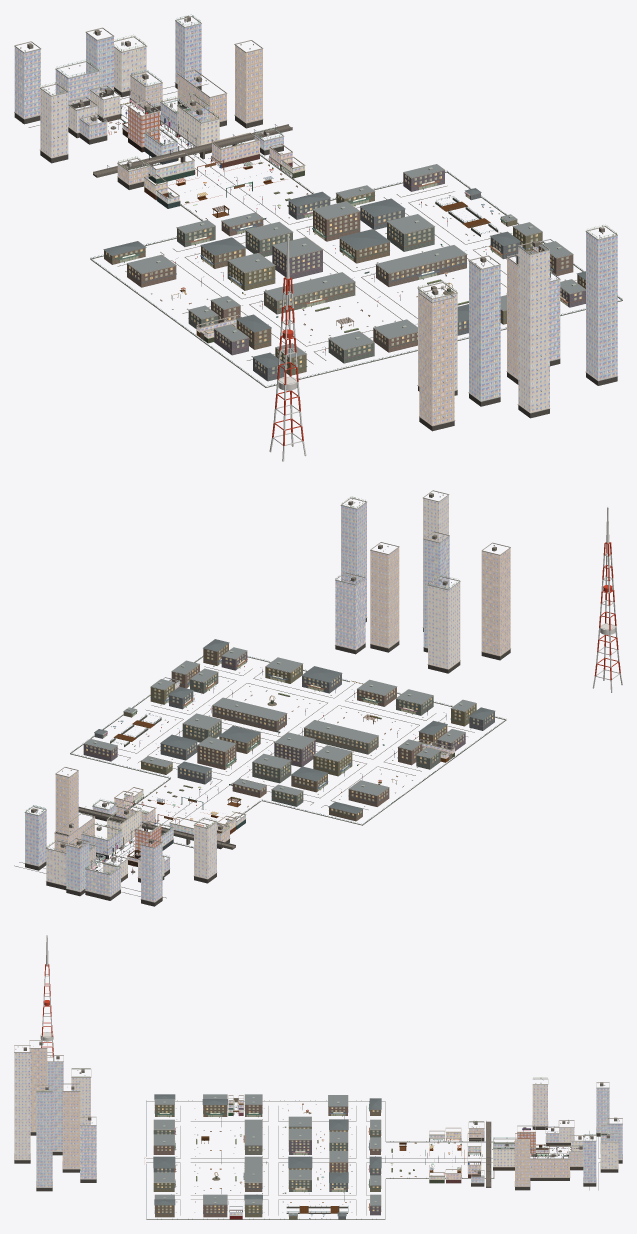
File: city-cast.opt.glb
The picture shows the model from 3 angles, top to bottom: view 1: azimuth 30°, elevation 25°; view 2: azimuth 150°, elevation 25°; view 3: azimuth 270°, elevation 25°; orthographic projection. The views are drawn at different scales.
Parts seen in each view (by area): view 1: city:facade (×19), city:concrete, neighborhood:matte (×4), city:satin (×6), neighborhood:cityWindows, city:wood; view 2: city:facade (×16), city:concrete, neighborhood:matte (×4), city:satin (×4), neighborhood:cityWindows; view 3: city:facade (×13), neighborhood:matte (×4), city:concrete, city:satin (×5), neighborhood:cityWindows, city:wood.
Boxes of the visible parts, <box> form: city:facade (×19): <box>14,21,617,425</box>; city:concrete: <box>14,16,622,431</box>; neighborhood:matte (×4): <box>90,164,622,386</box>; city:satin (×6): <box>14,14,540,461</box>; neighborhood:cityWindows: <box>106,172,585,373</box>; city:wood: <box>109,108,492,330</box>; city:facade (×16): <box>25,495,510,901</box>; city:concrete: <box>14,493,510,906</box>; neighborhood:matte (×4): <box>70,639,504,824</box>; city:satin (×4): <box>24,506,622,902</box>; neighborhood:cityWindows: <box>86,645,492,815</box>; city:facade (×13): <box>14,1048,618,1187</box>; neighborhood:matte (×4): <box>146,1094,381,1218</box>; city:concrete: <box>14,1041,622,1219</box>; city:satin (×5): <box>40,935,622,1186</box>; neighborhood:cityWindows: <box>157,1105,378,1212</box>; city:wood: <box>201,1103,567,1213</box>.
Size of the model in its own units: 300 by 151 by 554.
Materials: 82 (79 with a texture image).
